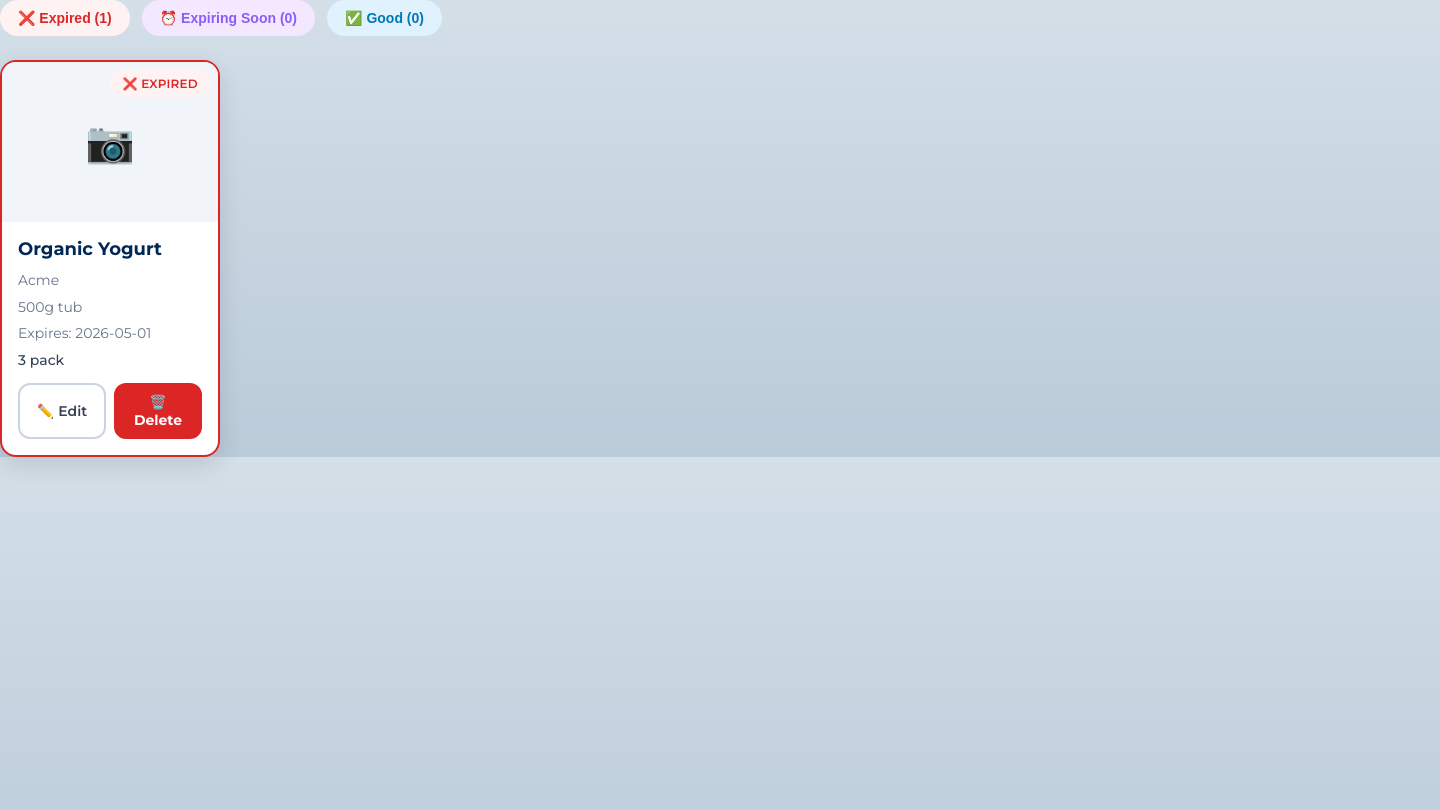
Scenario: InventoryDashboard ProductCard accessibility › opens the delete confirmation dialog when the Delete control is activated
The width and height of the screenshot is (1440, 810).
Expected: the element with test id "inventory-grid" is shown, [0,60,220,457]
Click the button with test id "delete-product-btn" at (158, 411), box [114,383,202,439]
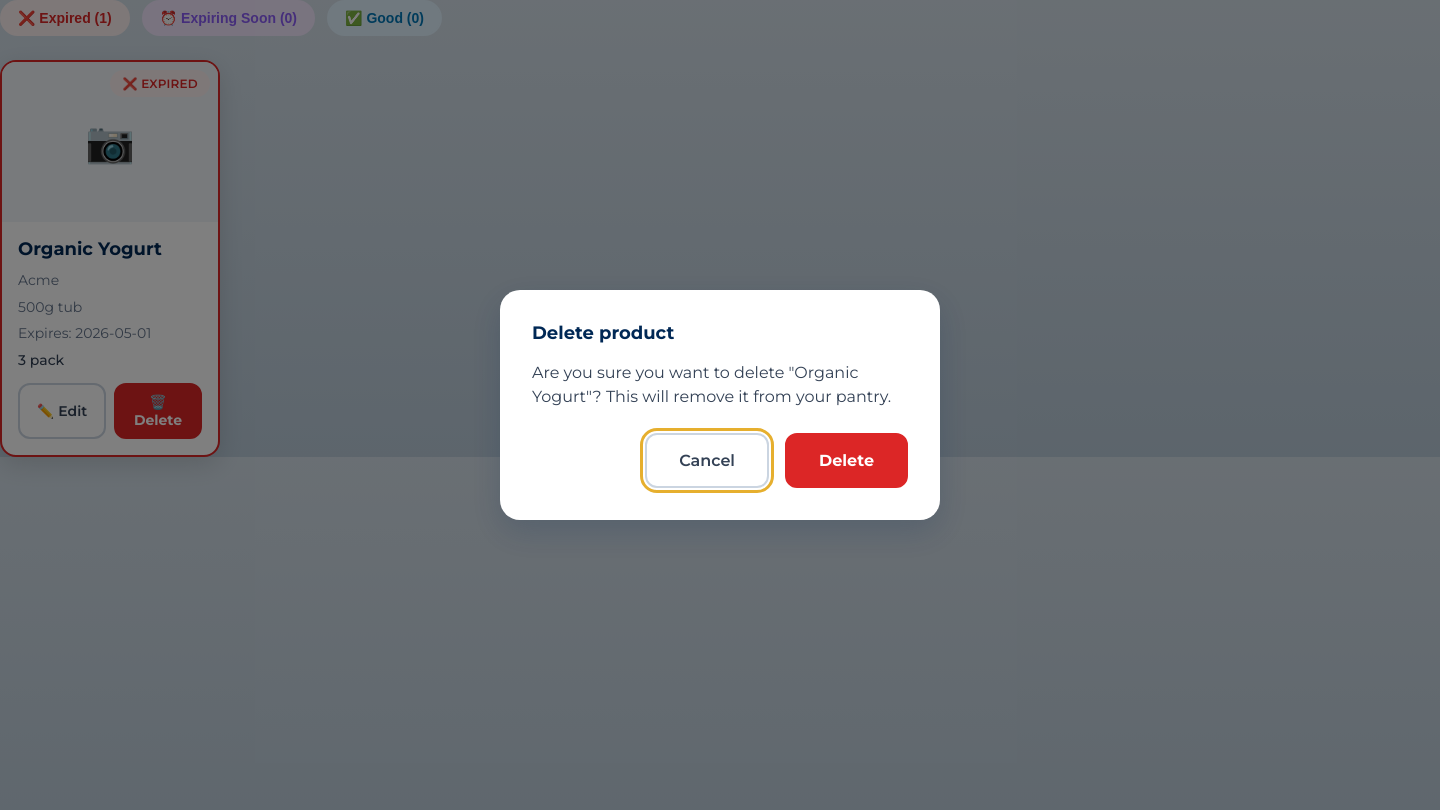
Expected: the dialog is shown, [500,290,940,520]
